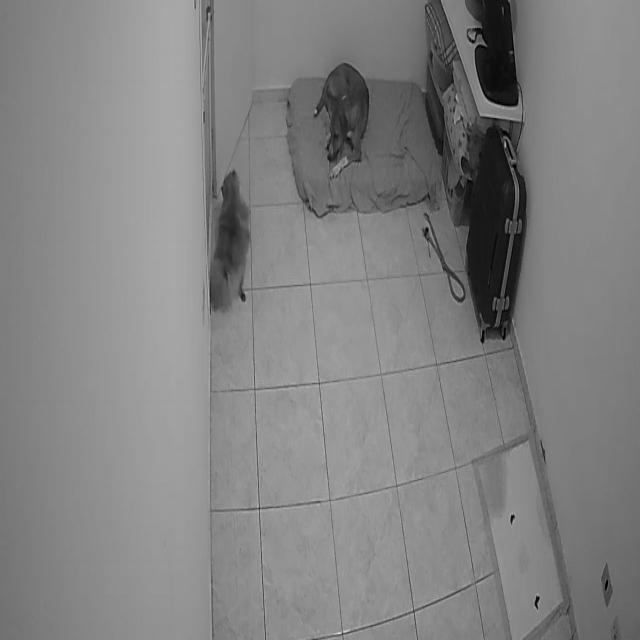laying down: (206, 165, 254, 318), (313, 60, 371, 184)
